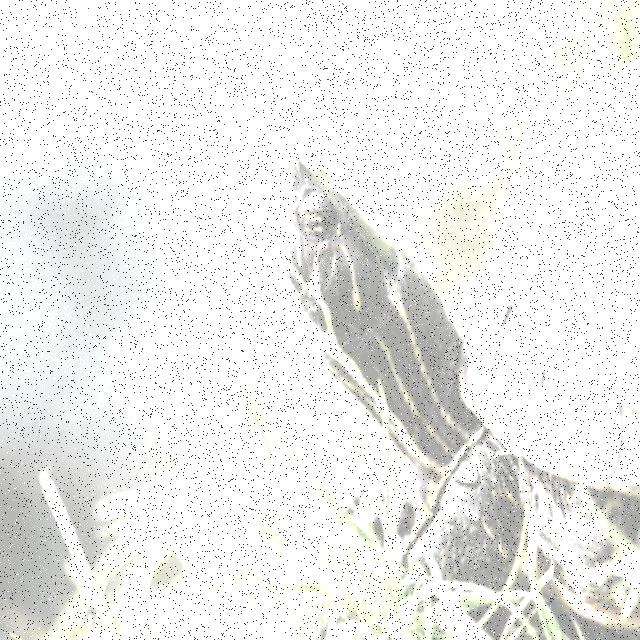tortoise: (267, 146, 627, 640)
